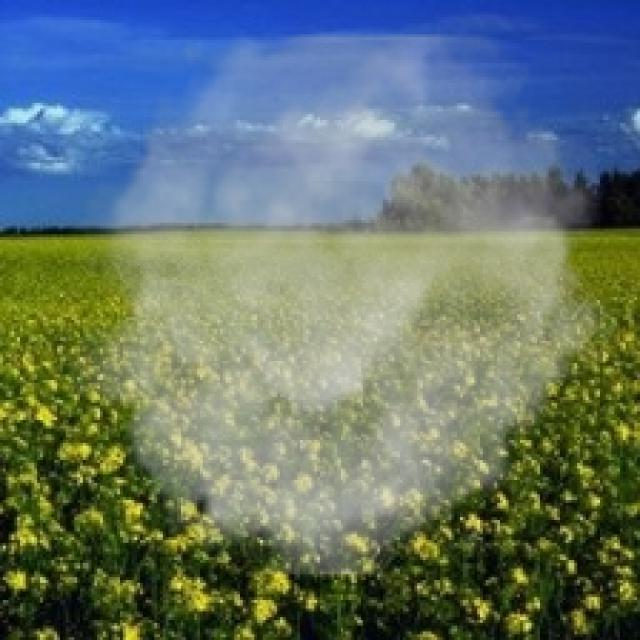smoke: (66, 34, 623, 574)
